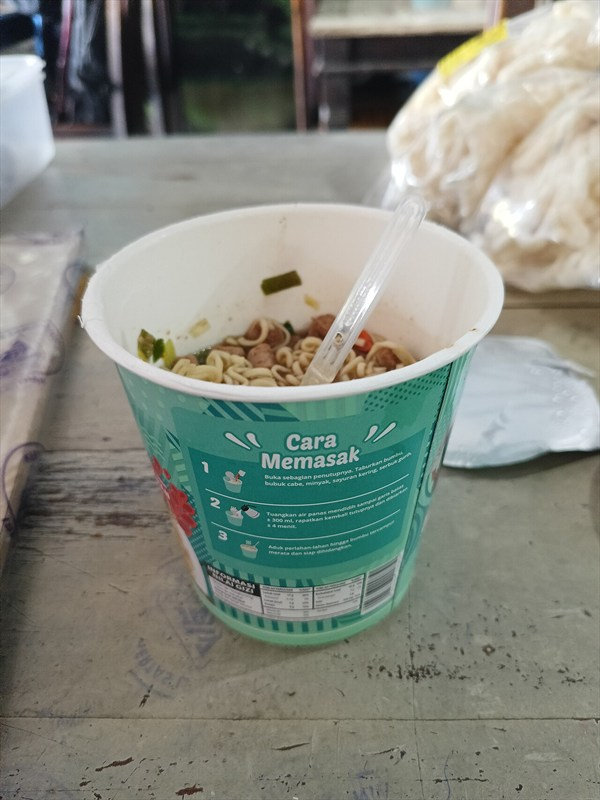Bakso: (24, 16, 557, 575)
